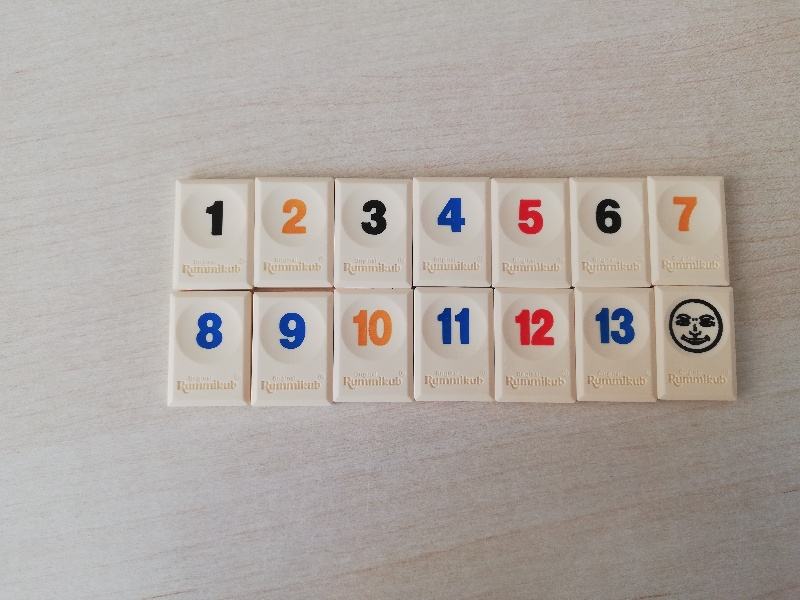1: (171, 174, 254, 291)
10: (333, 288, 411, 401)
11: (411, 285, 494, 406)
12: (495, 287, 577, 404)
13: (575, 286, 657, 404)
2: (254, 172, 335, 290)
3: (334, 175, 411, 287)
4: (412, 175, 492, 287)
5: (492, 177, 572, 287)
6: (569, 177, 648, 285)
7: (650, 174, 731, 285)
8: (167, 291, 252, 409)
9: (252, 290, 333, 405)
joker: (654, 283, 741, 405)
